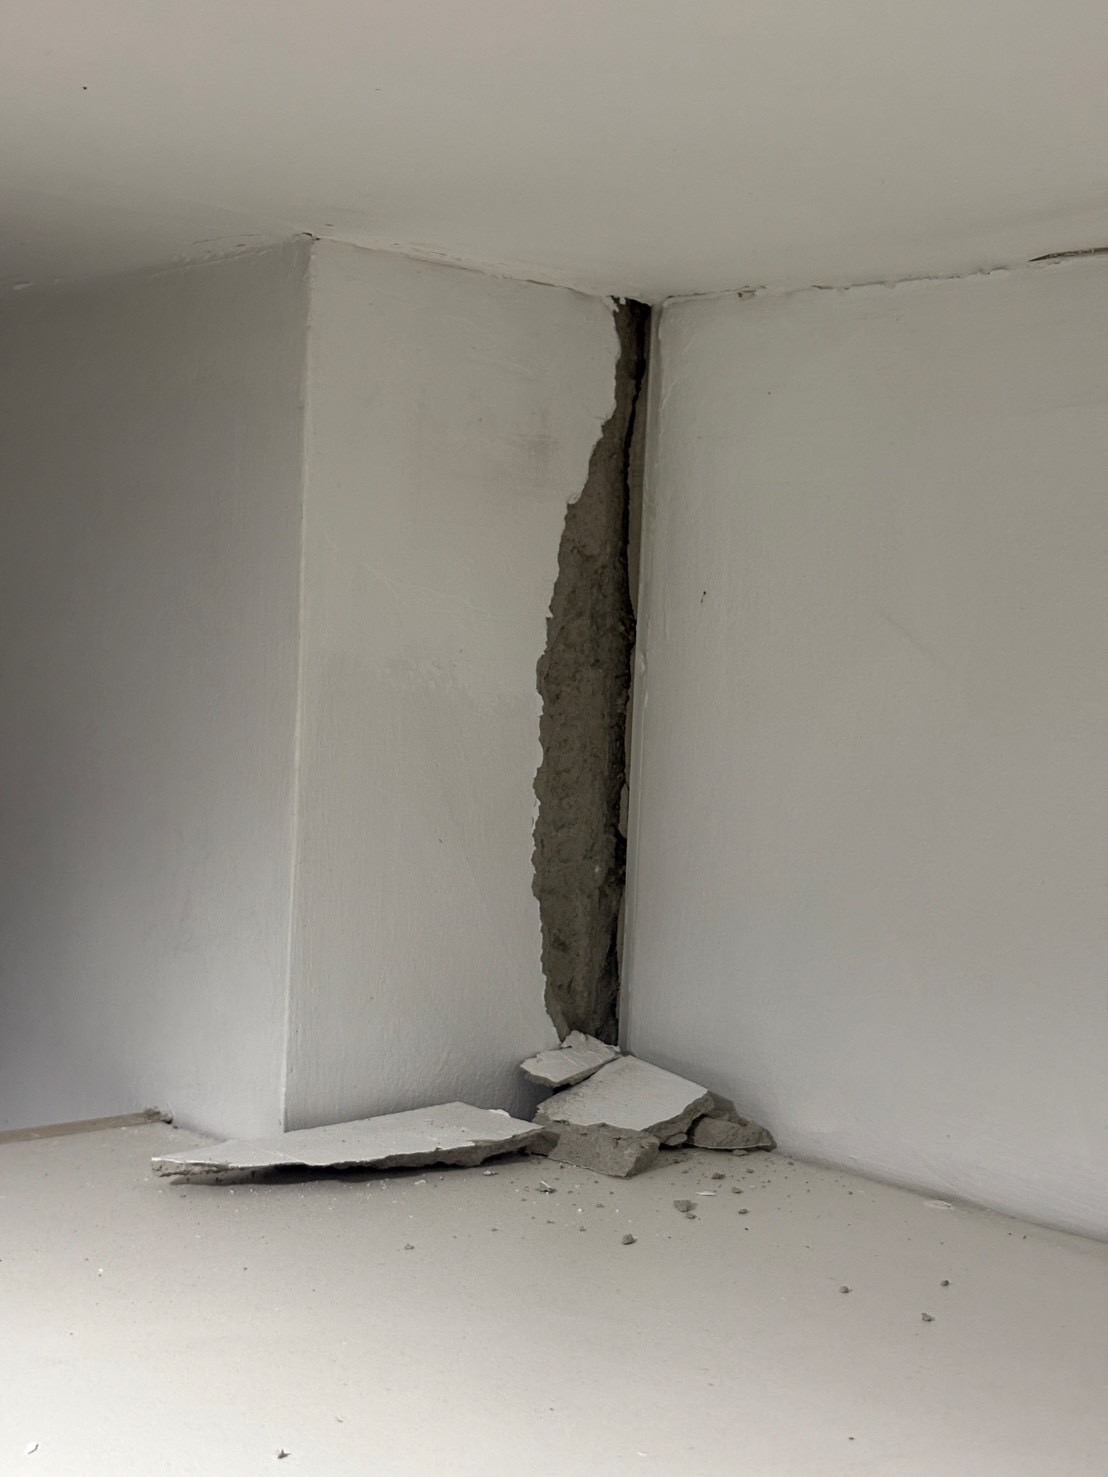High: (488, 282, 682, 1105)
